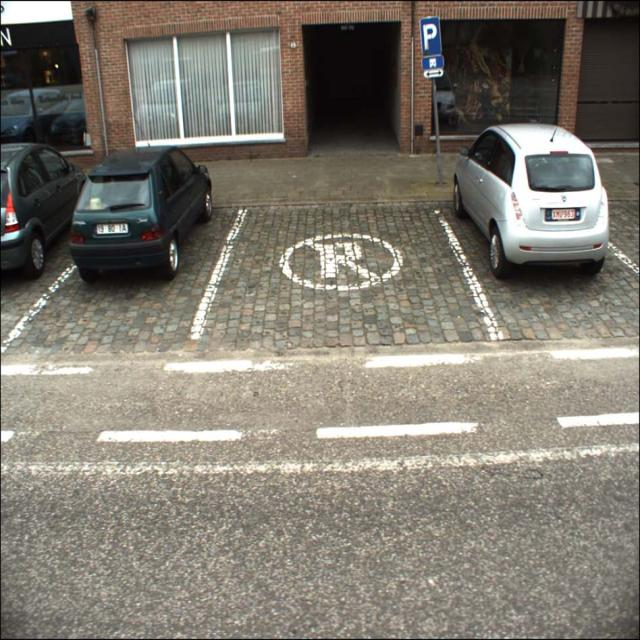park: (420, 17, 441, 55)
